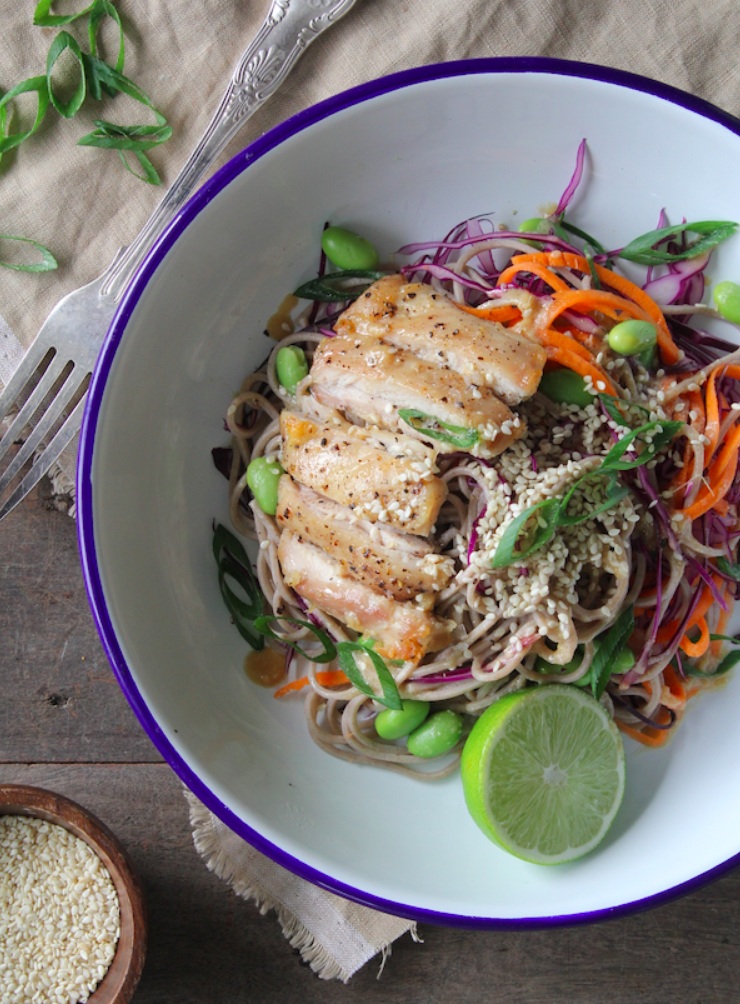Soba: (223, 329, 740, 783)
